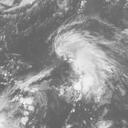cyclone: (51, 27, 116, 97)
